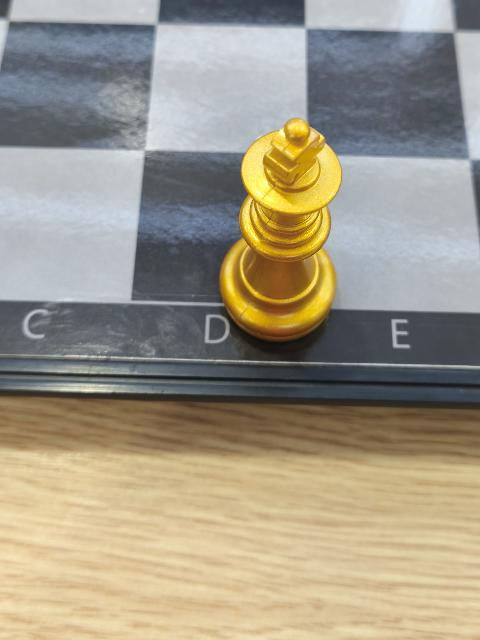black_king: (219, 116, 339, 337)
